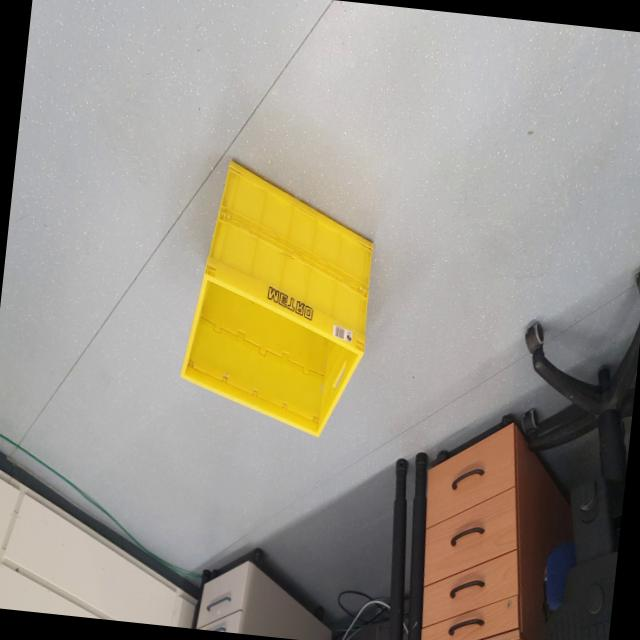box: (166, 150, 392, 452)
